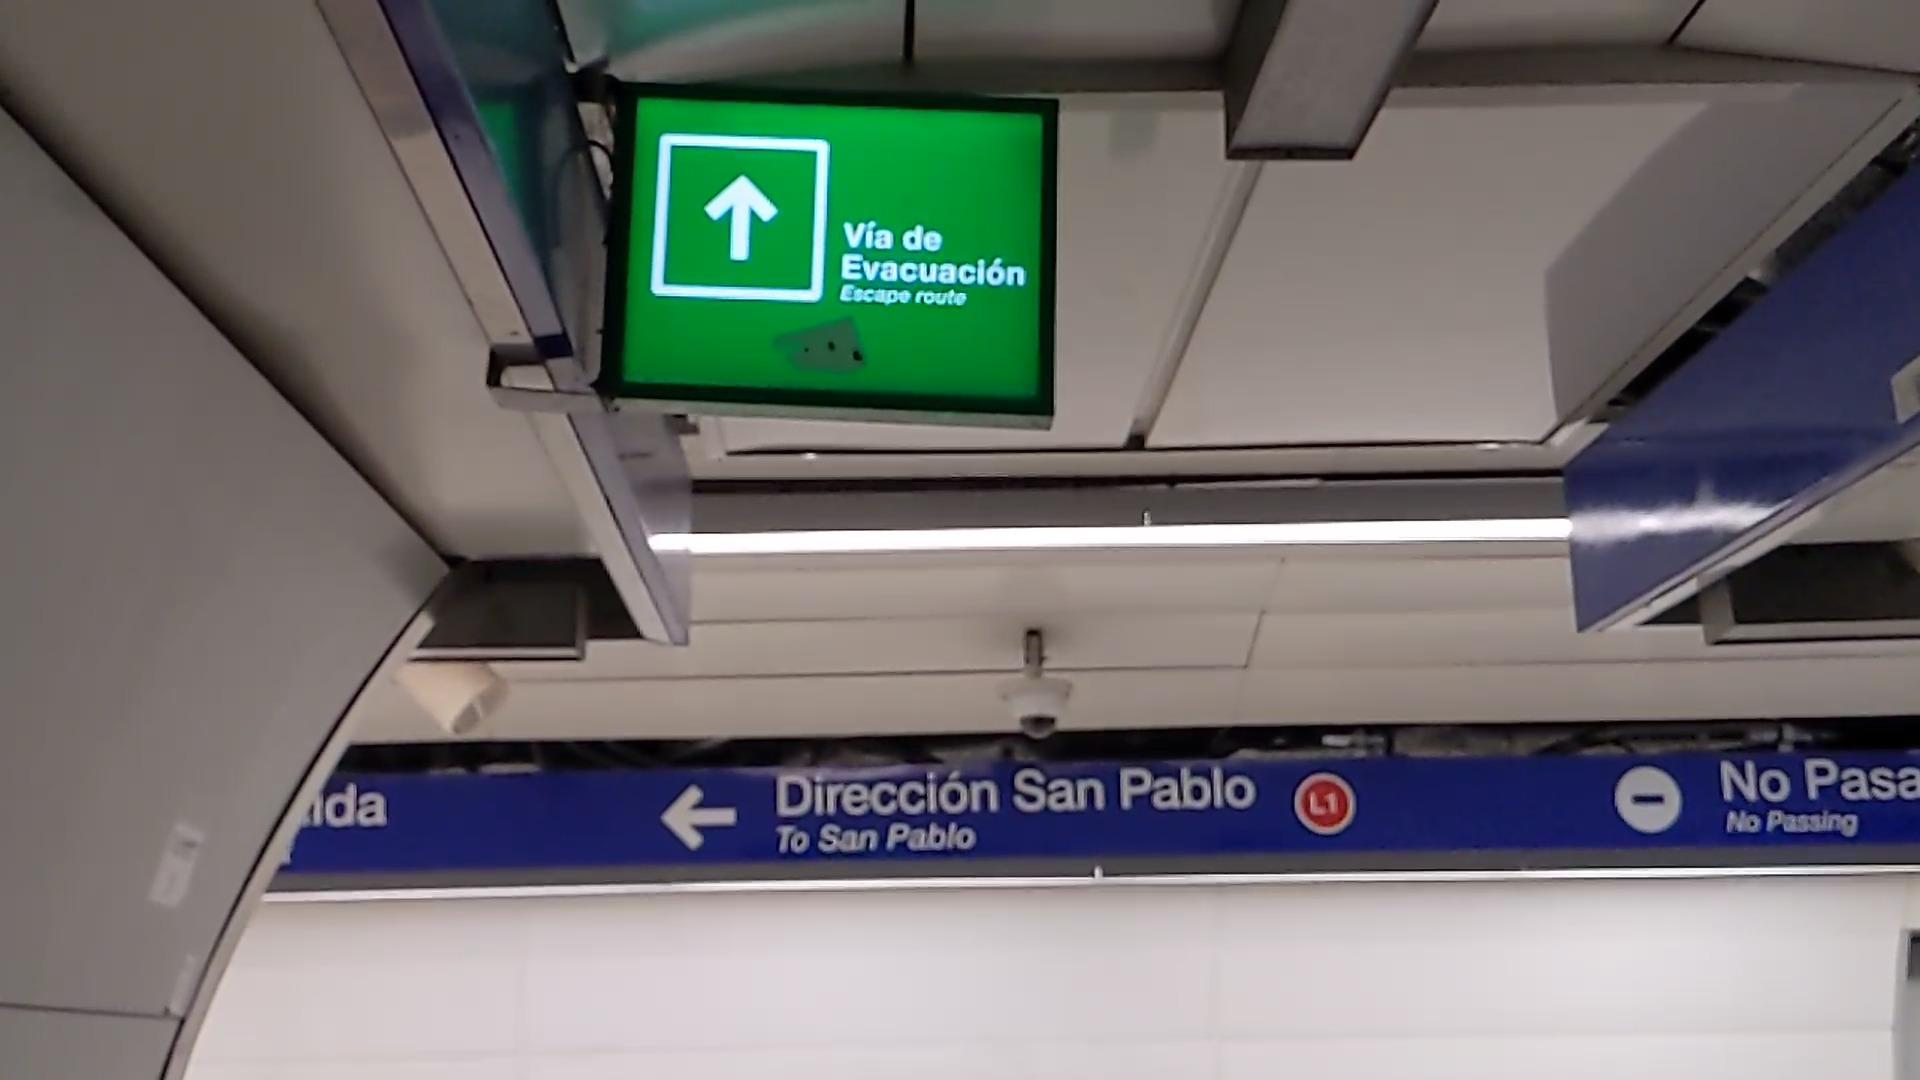emergency right arrow: (704, 173, 779, 266)
left arrow: (658, 781, 740, 852)
